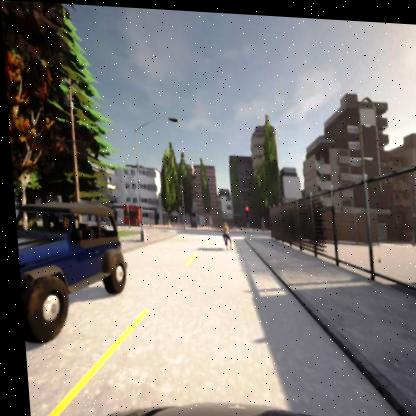bike: (217, 218, 229, 247)
vehicle: (11, 193, 128, 348)
